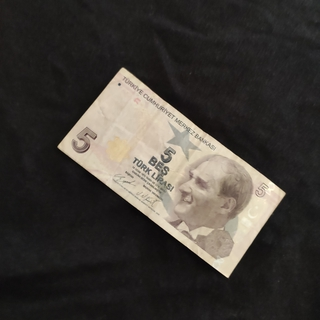5TLFront: (56, 66, 285, 278)
